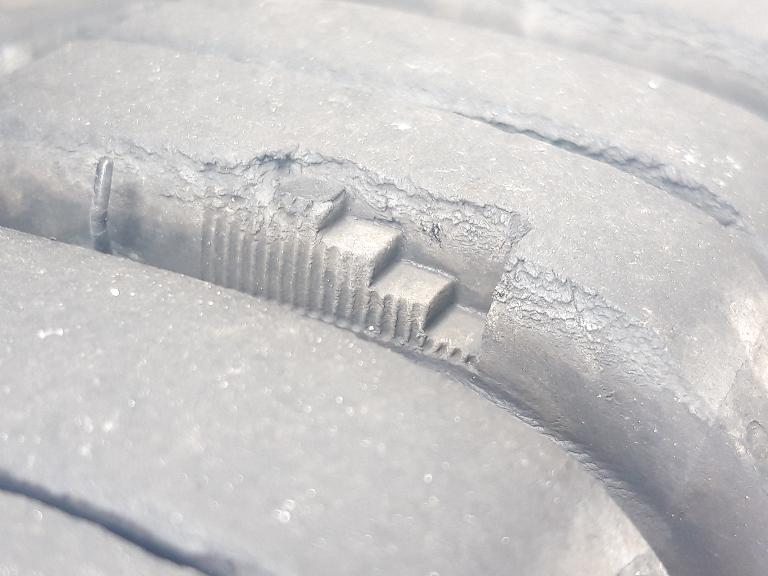temoin:80: (190, 126, 544, 387)
